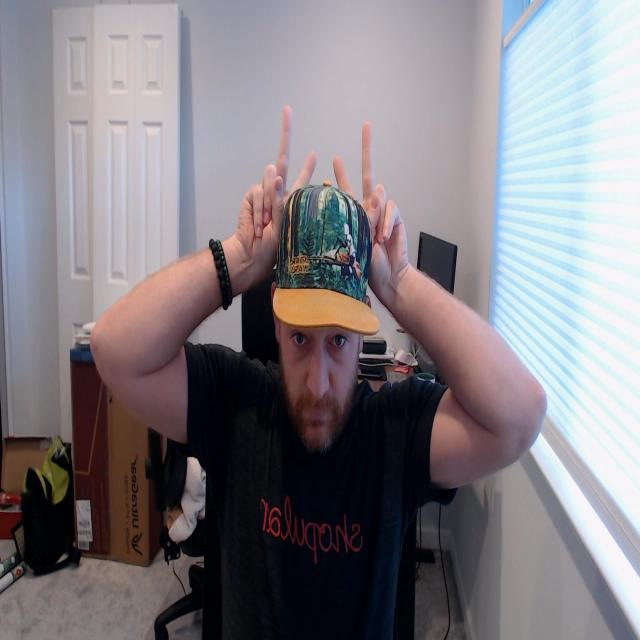face: (280, 322, 362, 457)
